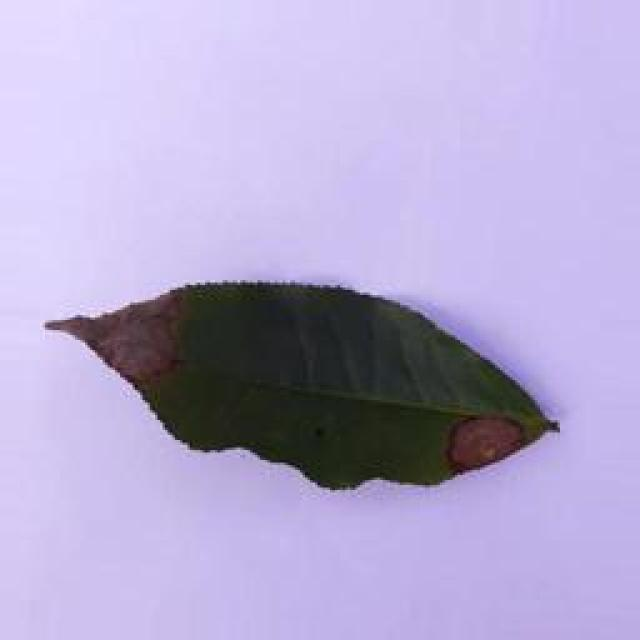Gray Blight: (49, 272, 567, 511)
